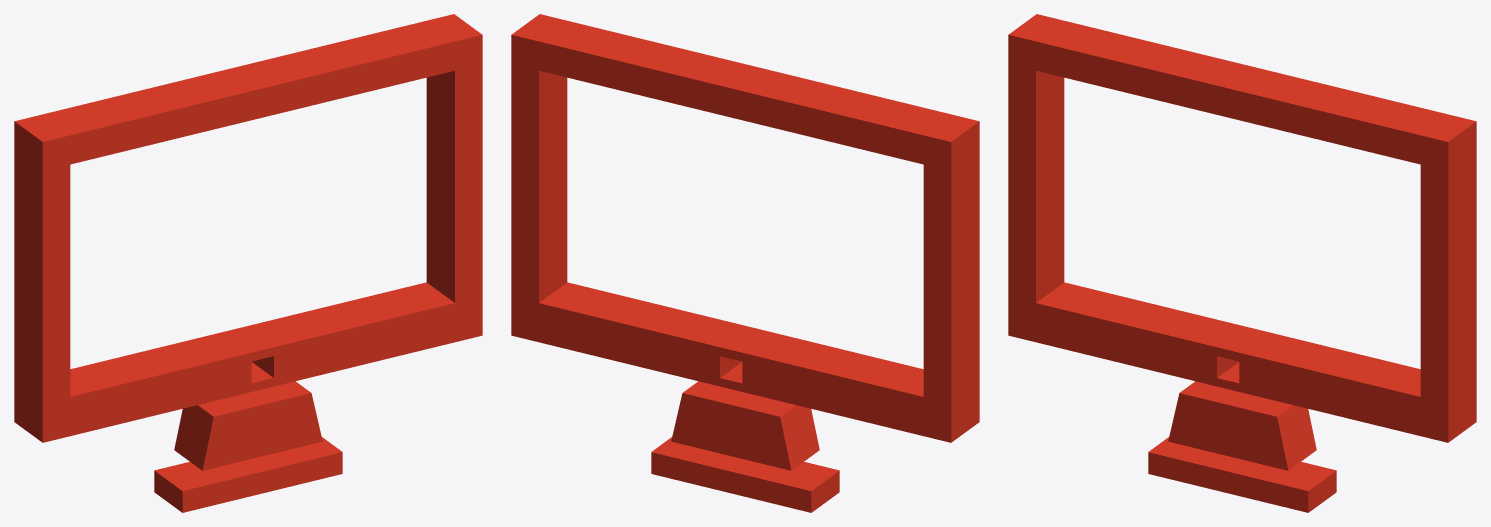
File: Icon_Monitor_01.fbx
3 views of the same model, side by side, from view 1: azimuth 30°, elevation 25°; view 2: azimuth 150°, elevation 25°; view 3: azimuth 330°, elevation 25° (orthographic).
Visible parts, largest first — view 1: Icon_Monitor_01; view 2: Icon_Monitor_01; view 3: Icon_Monitor_01.
Part boxes in pixels (box(x1,y1,x2,y2)): Icon_Monitor_01: box(14, 14, 482, 512); Icon_Monitor_01: box(511, 14, 979, 512); Icon_Monitor_01: box(1008, 14, 1476, 512).
Size of the model in its own units: 79.85 by 70.27 by 8.93.
